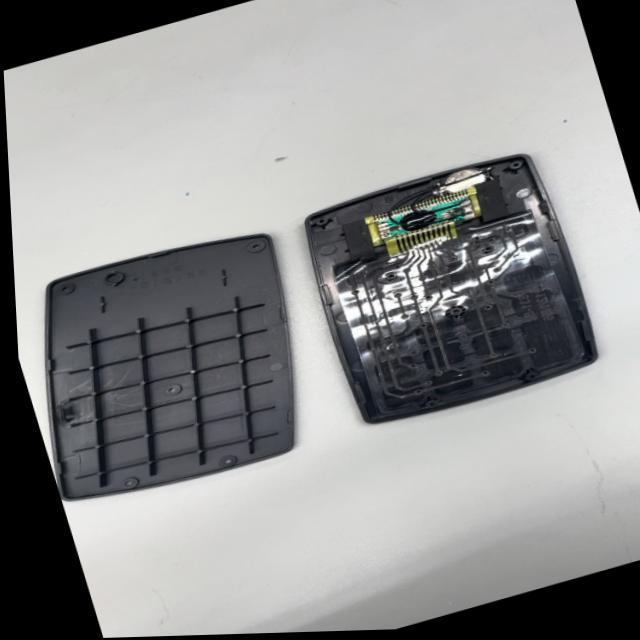back_cover: (12, 216, 343, 520)
front_panel: (287, 131, 616, 438)
